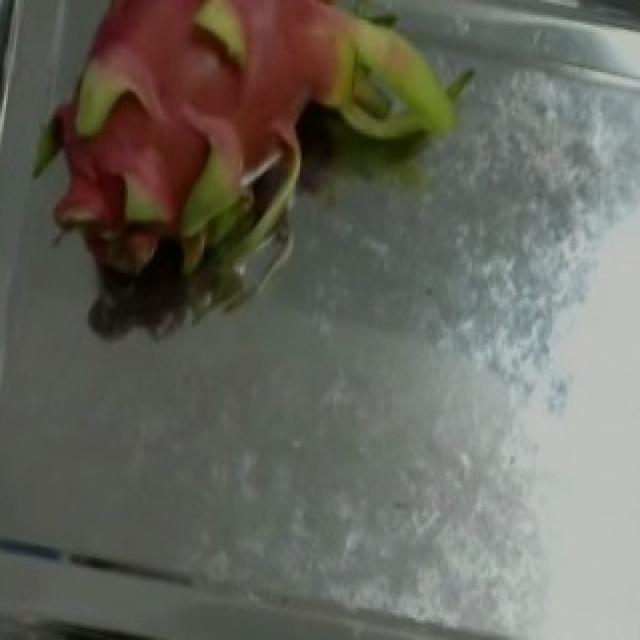fruit: (10, 0, 464, 367)
